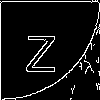Z: (24, 24, 57, 73)
